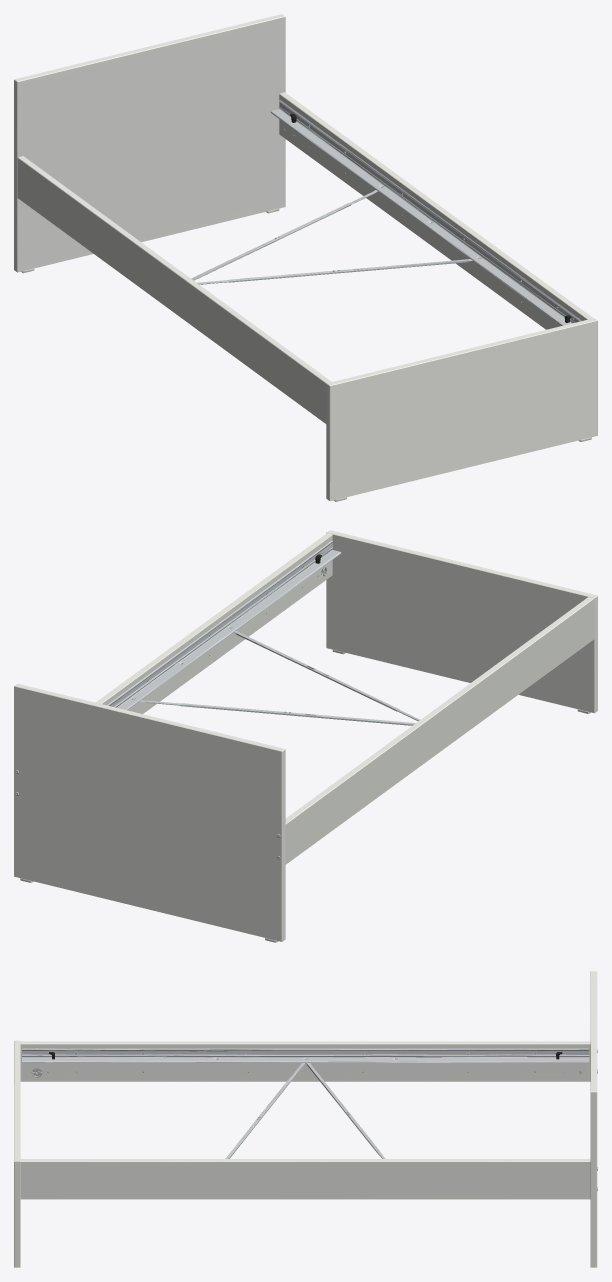
3 renders of one model, top to bottom at view 1: azimuth 30°, elevation 25°; view 2: azimuth 150°, elevation 25°; view 3: azimuth 270°, elevation 25°, orthographic. The views are drawn at different scales.
Visible parts, largest first — view 1: 30602429-VIHALS001_NODE_ID_88f6113c-ea6b-417f-90a6-a298f0e94; view 2: 30602429-VIHALS001_NODE_ID_88f6113c-ea6b-417f-90a6-a298f0e94; view 3: 30602429-VIHALS001_NODE_ID_88f6113c-ea6b-417f-90a6-a298f0e94.
Part boxes in pixels (bbox=[...]): 30602429-VIHALS001_NODE_ID_88f6113c-ea6b-417f-90a6-a298f0e94: bbox=[14, 14, 597, 501]; 30602429-VIHALS001_NODE_ID_88f6113c-ea6b-417f-90a6-a298f0e94: bbox=[14, 530, 597, 942]; 30602429-VIHALS001_NODE_ID_88f6113c-ea6b-417f-90a6-a298f0e94: bbox=[14, 971, 597, 1267].
Size of the model in its own units: 0.96 by 0.66 by 1.96.
1 material, 1 textured.
